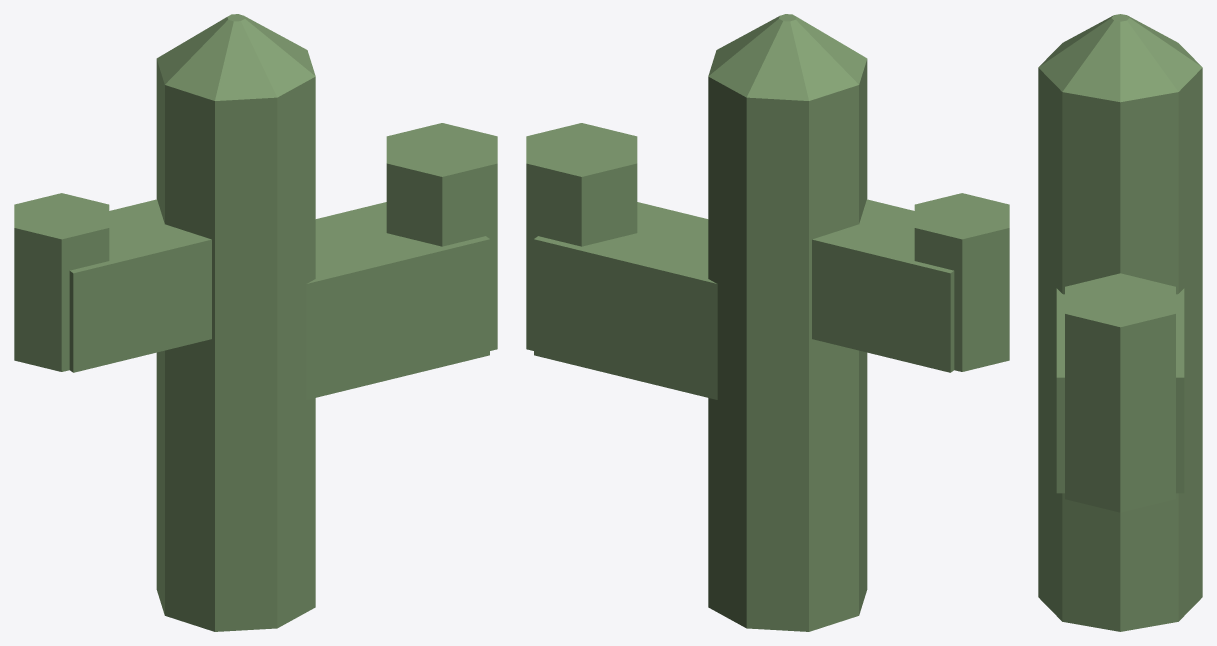
The model's file is w_kaktus_b.glb.
3 views of the same model, side by side, from view 1: azimuth 30°, elevation 25°; view 2: azimuth 150°, elevation 25°; view 3: azimuth 270°, elevation 25° (orthographic).
Visible parts, largest first — view 1: koerper; view 2: koerper; view 3: koerper.
Part boxes in pixels (x1,y1,x2,y2): koerper: [14, 14, 497, 631]; koerper: [526, 14, 1009, 631]; koerper: [1038, 14, 1202, 631].
Size of the model in its own units: 3.05 by 3.5 by 0.9.
